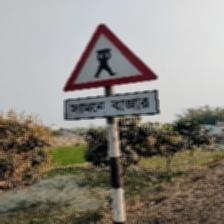Market-in-front: (62, 23, 160, 121)
